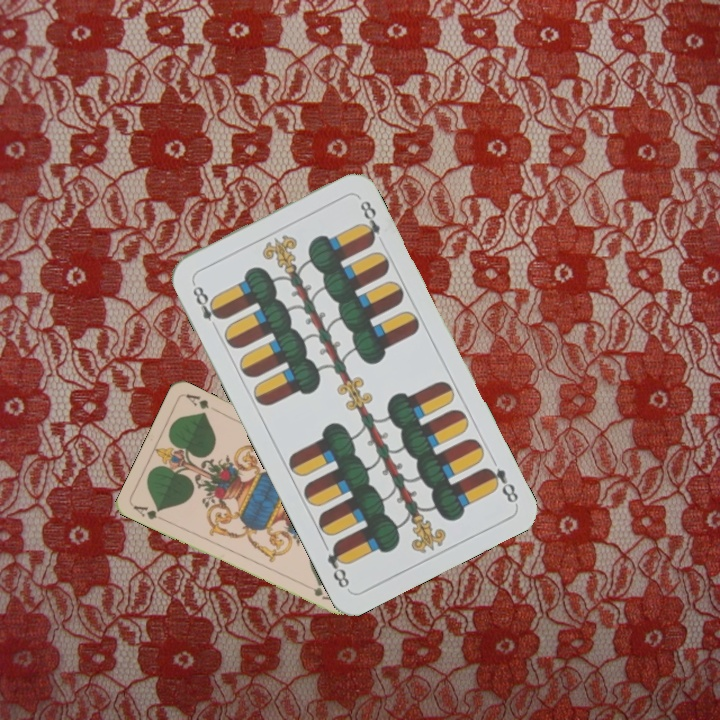E8: (188, 278, 226, 334), (480, 463, 521, 506)
GA: (129, 501, 168, 523)
